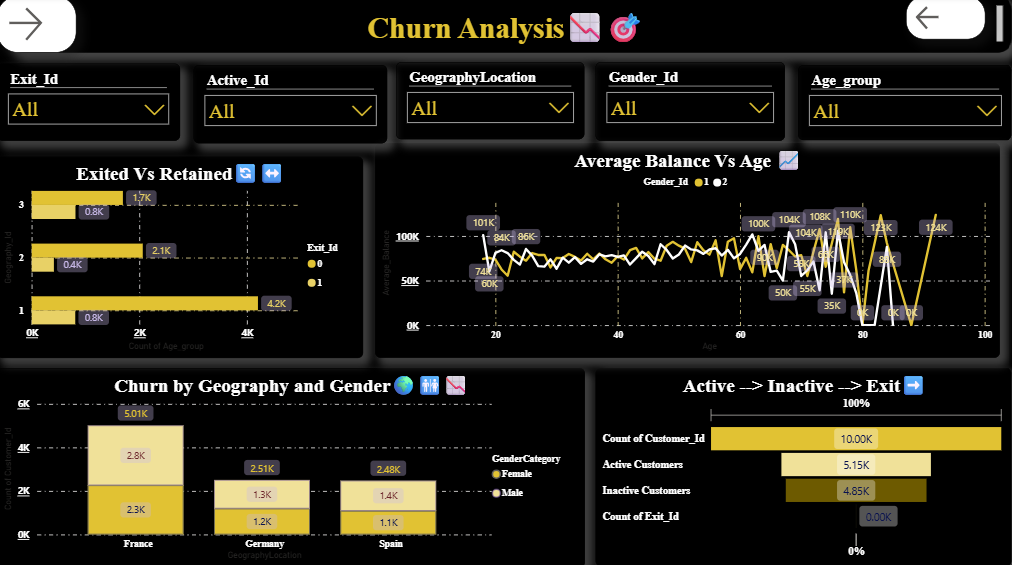

This screenshot's page, from the dashboard's own definition file:
{"tool":"powerbi","page":{"name":"Churn Analysis","canvas":[1280,720],"ordinal":2},"visuals":[{"type":"textbox","box":[13.7,0,1266.6,71.4],"z":0},{"type":"clusteredBarChart","title":"Exited Vs Retained🔄↔️","fields":{"Category":["Geography.Geography_Id"],"Series":["Bank_Churn.Exit_Id"],"Y":["CountNonNull(Bank_Churn.Age_group)"]},"box":[0,201.7,461.1,253.9],"z":1000},{"type":"columnChart","title":"Churn by Geography and Gender🌍🚻📉","fields":{"Category":["Geography.GeographyLocation"],"Y":["CountNonNull(Bank_Churn.Customer_Id)"],"Series":["Gender.GenderCategory"]},"box":[0,469.3,741,251.1],"z":2000},{"type":"funnel","title":"Active --> Inactive --> Exit➡️","fields":{"Y":["CountNonNull(Bank_Churn.Customer_Id)","Bank_Churn.Active Customers","Bank_Churn.Inactive Customers","CountNonNull(ExitCustomer.Exit_Id)"]},"box":[754.7,469.3,525.6,249.7],"z":3000},{"type":"lineChart","title":"Average Balance Vs Age 📈","fields":{"Category":["Bank_Churn.Age"],"Y":["Bank_Churn.Average_Balance"],"Series":["Gender.Gender_Id"]},"box":[476.4,184.7,787.5,270.8],"z":4000},{"type":"slicer","fields":{"Values":["ExitCustomer.Exit_Id"]},"box":[0,85.1,230.5,97.4],"z":5000},{"type":"slicer","fields":{"Values":["Bank_Churn.Active_Id"]},"box":[248.4,86.4,244.3,98.8],"z":6000},{"type":"slicer","fields":{"Values":["Geography.GeographyLocation"]},"box":[503.6,83.7,237.4,97.4],"z":7000},{"type":"slicer","fields":{"Values":["Gender.Gender_Id"]},"box":[754.5,83.7,238.5,99],"z":8000},{"type":"slicer","fields":{"Values":["Bank_Churn.Age_group"]},"box":[1010,86.4,270.3,94.7],"z":9000},{"type":"actionButton","box":[0,0,100.2,71.4],"z":10000},{"type":"actionButton","box":[1145.8,0,100.2,54.9],"z":11000}]}

Visuals, with their boxes in screenshot pixels (x1, y1, x2, y2), scaled from the page's 1280x720 canvas onto the 1012x565 screenshot:
textbox: (11, 0, 1011, 56)
"Exited Vs Retained🔄↔️" clusteredBarChart: (0, 158, 365, 358)
"Churn by Geography and Gender🌍🚻📉" columnChart: (0, 368, 586, 564)
"Active --> Inactive --> Exit➡️" funnel: (597, 368, 1011, 564)
"Average Balance Vs Age 📈" lineChart: (377, 145, 999, 357)
slicer - ExitCustomer.Exit_Id: (0, 67, 182, 143)
slicer - Bank_Churn.Active_Id: (196, 68, 390, 145)
slicer - Geography.GeographyLocation: (398, 66, 586, 142)
slicer - Gender.Gender_Id: (597, 66, 785, 143)
slicer - Bank_Churn.Age_group: (799, 68, 1011, 142)
actionButton: (0, 0, 79, 56)
actionButton: (906, 0, 985, 43)
